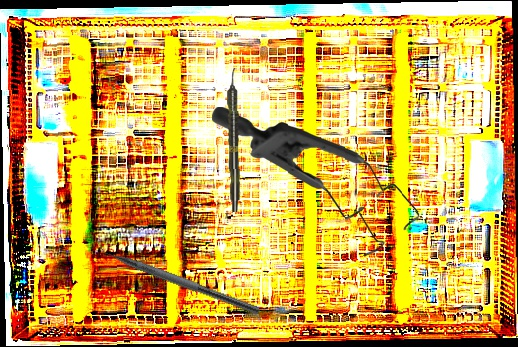Chopper: (86, 233, 266, 316)
Handpiece: (226, 67, 242, 213)
Speculum: (209, 107, 424, 257)
